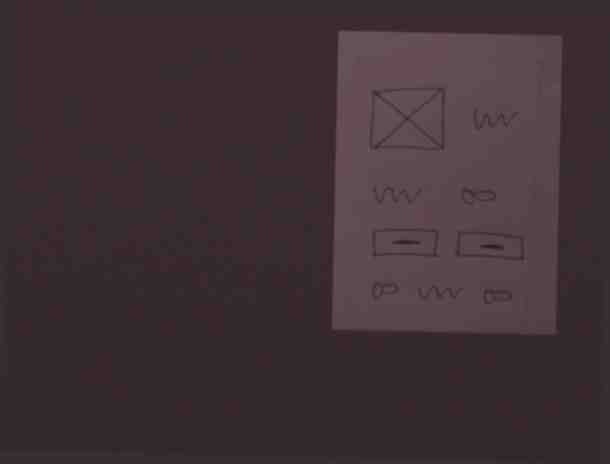button: (370, 223, 441, 263), (452, 226, 526, 264)
image: (367, 83, 449, 157)
switch: (364, 275, 409, 306), (457, 181, 502, 211), (473, 280, 518, 310)
text: (369, 179, 426, 211), (468, 103, 520, 134), (413, 279, 466, 307)
